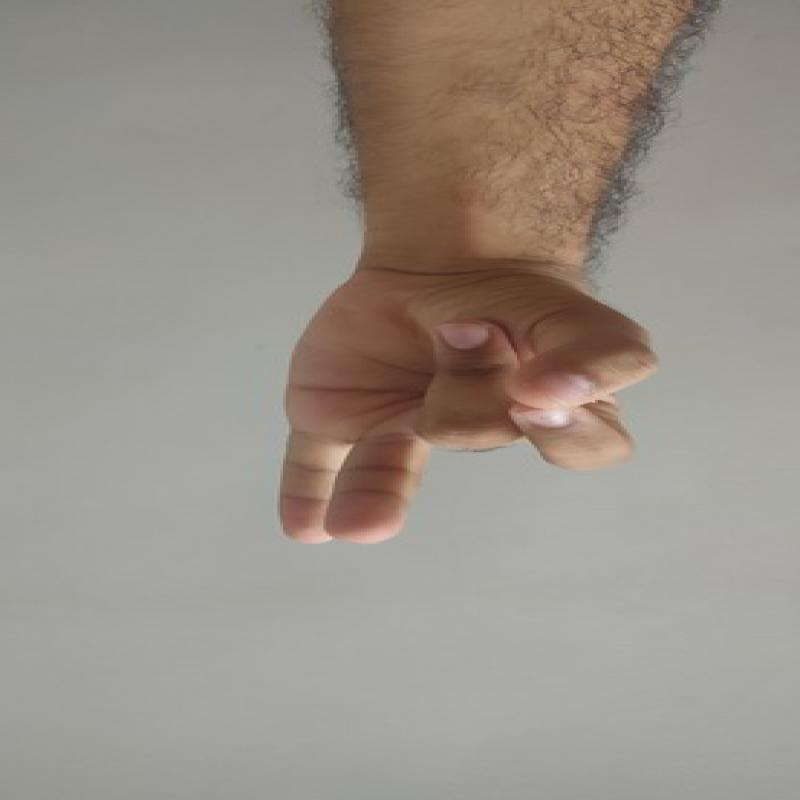Katakam: (242, 237, 668, 562)
